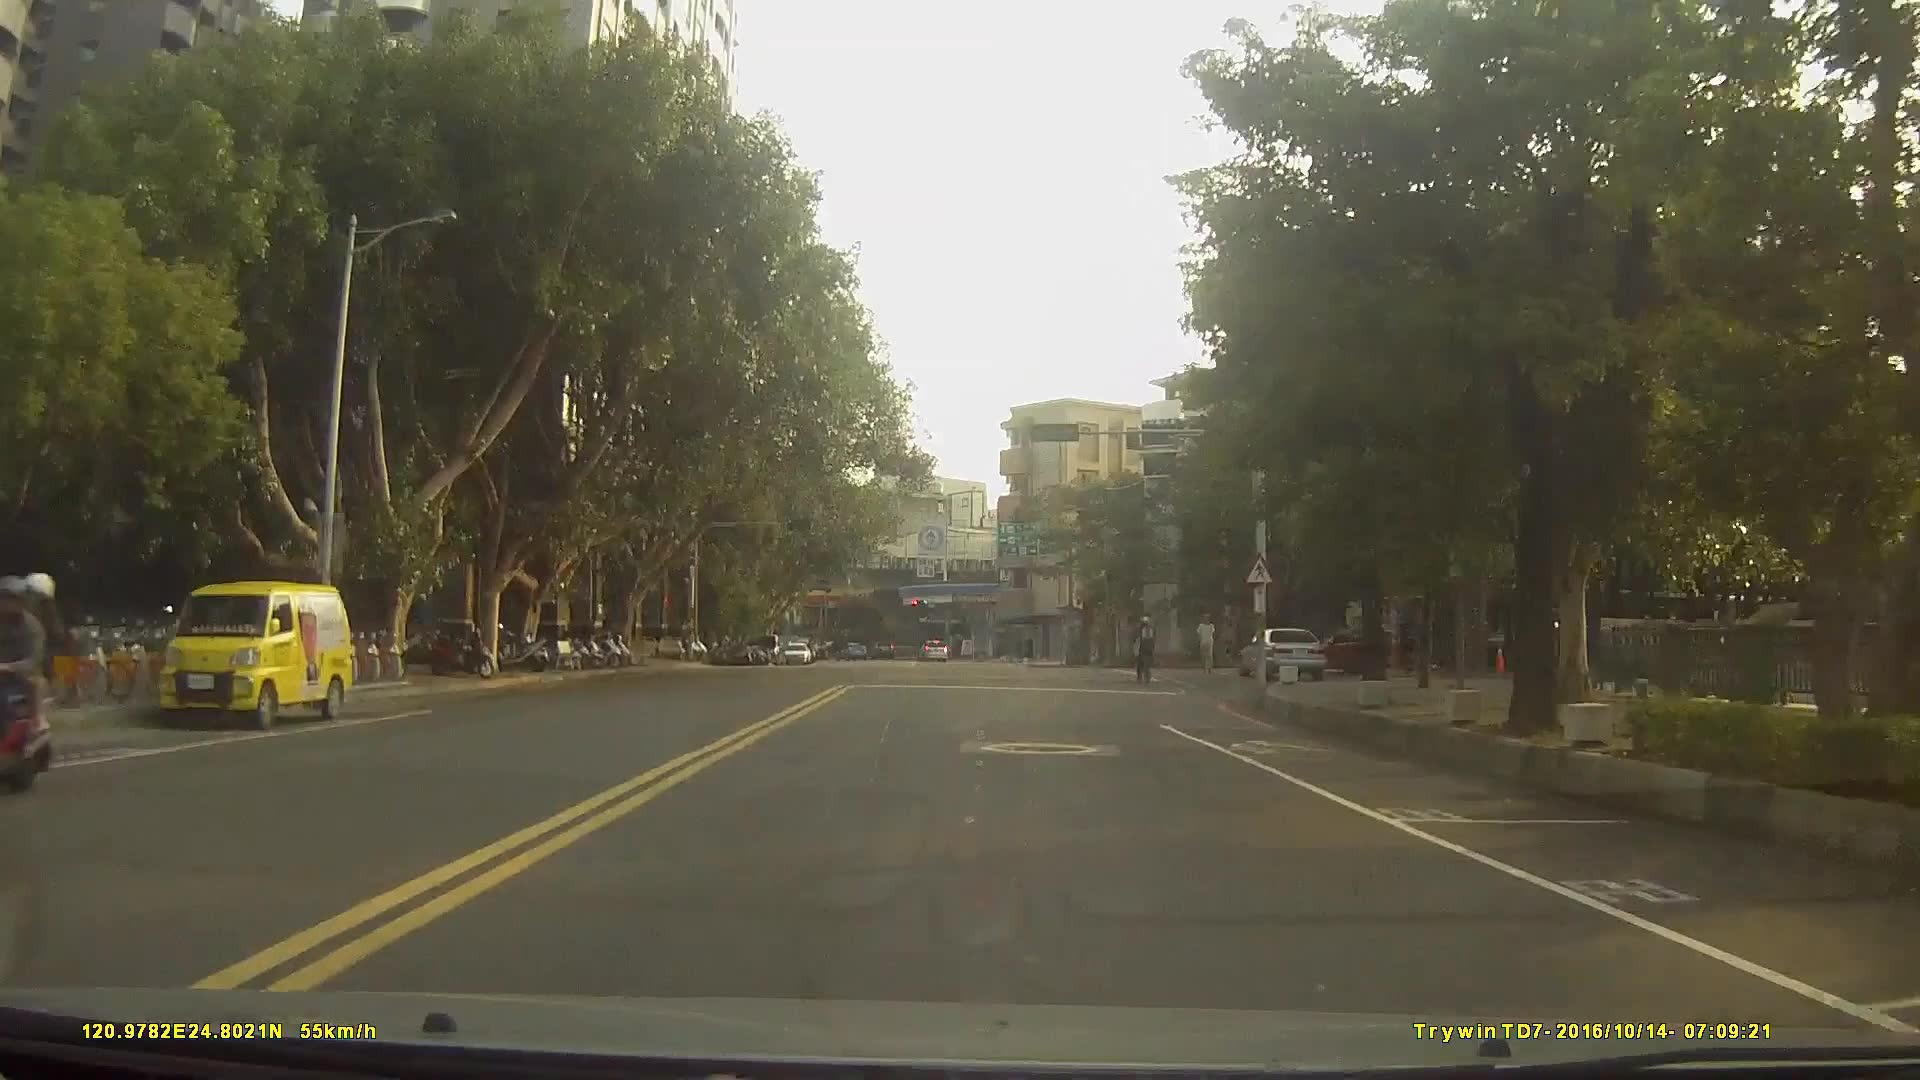pedestrian: (1197, 615, 1222, 683)
rider: (1, 573, 91, 788), (1132, 618, 1160, 684)
vehicle: (1235, 625, 1324, 681), (917, 636, 948, 660), (781, 643, 812, 665)
